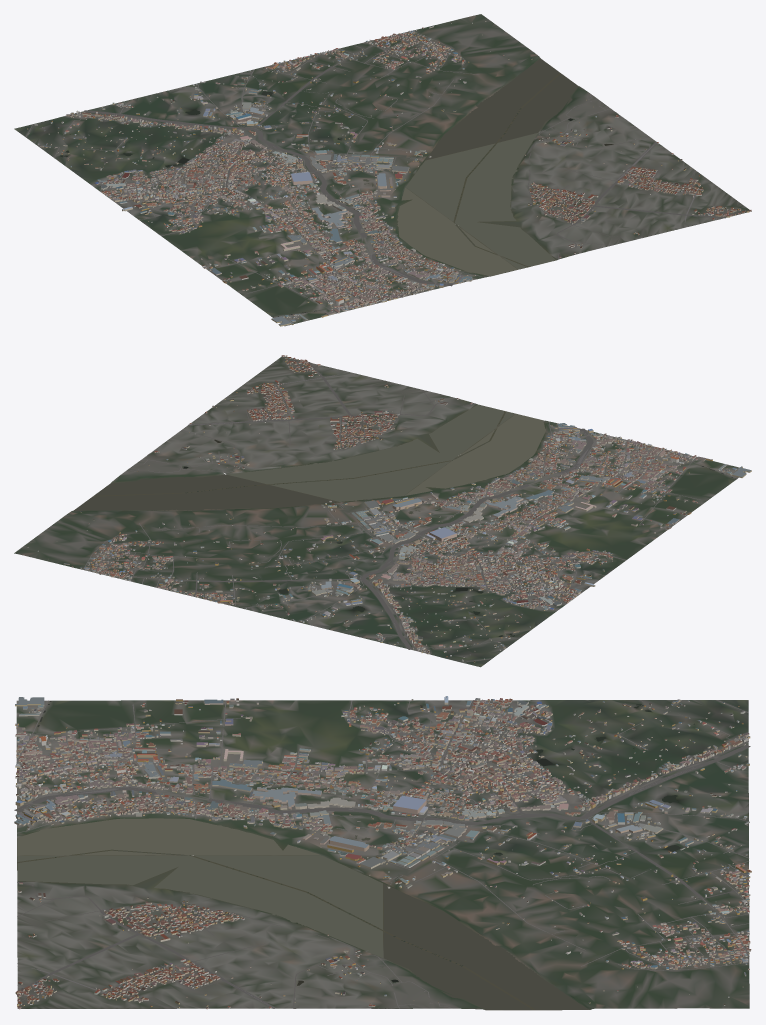
The picture shows the model from 3 angles, top to bottom: view 1: azimuth 30°, elevation 25°; view 2: azimuth 150°, elevation 25°; view 3: azimuth 270°, elevation 25°; orthographic projection. The views are drawn at different scales.
Parts seen in each view (by area): view 1: ground, buildings, water, roads; view 2: ground, buildings, water, roads; view 3: ground, buildings, water, roads.
Boxes of the visible parts, <box> form: ground: <box>14,14,751,326</box>; buildings: <box>27,21,751,326</box>; water: <box>60,58,613,317</box>; roads: <box>26,32,742,317</box>; ground: <box>14,356,745,667</box>; buildings: <box>27,355,751,662</box>; water: <box>73,404,736,643</box>; roads: <box>83,359,737,662</box>; ground: <box>16,700,749,1010</box>; buildings: <box>14,696,751,1009</box>; water: <box>17,701,694,1009</box>; roads: <box>14,700,750,1008</box>.
Bounding box in the file's own units: 2827 × 29.68 × 2827.
